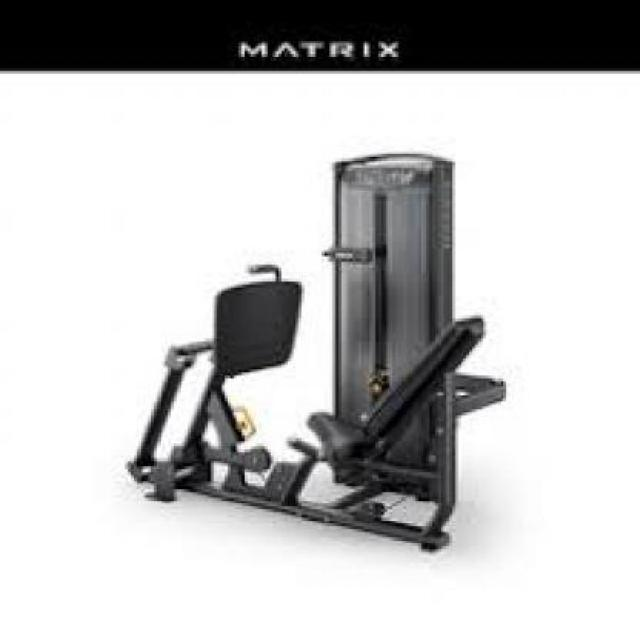leg press: (108, 137, 522, 563)
